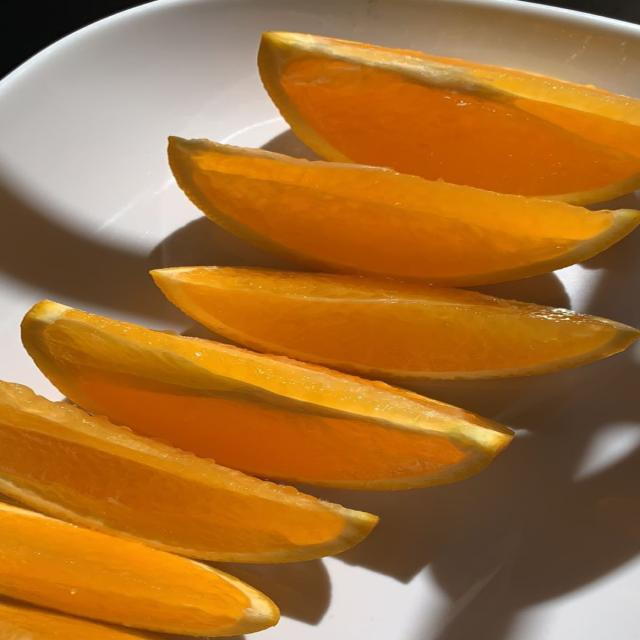orange: (22, 301, 511, 489), (169, 138, 639, 285), (0, 383, 377, 562), (259, 32, 639, 203), (152, 267, 639, 378), (0, 504, 278, 636), (0, 599, 157, 639)
